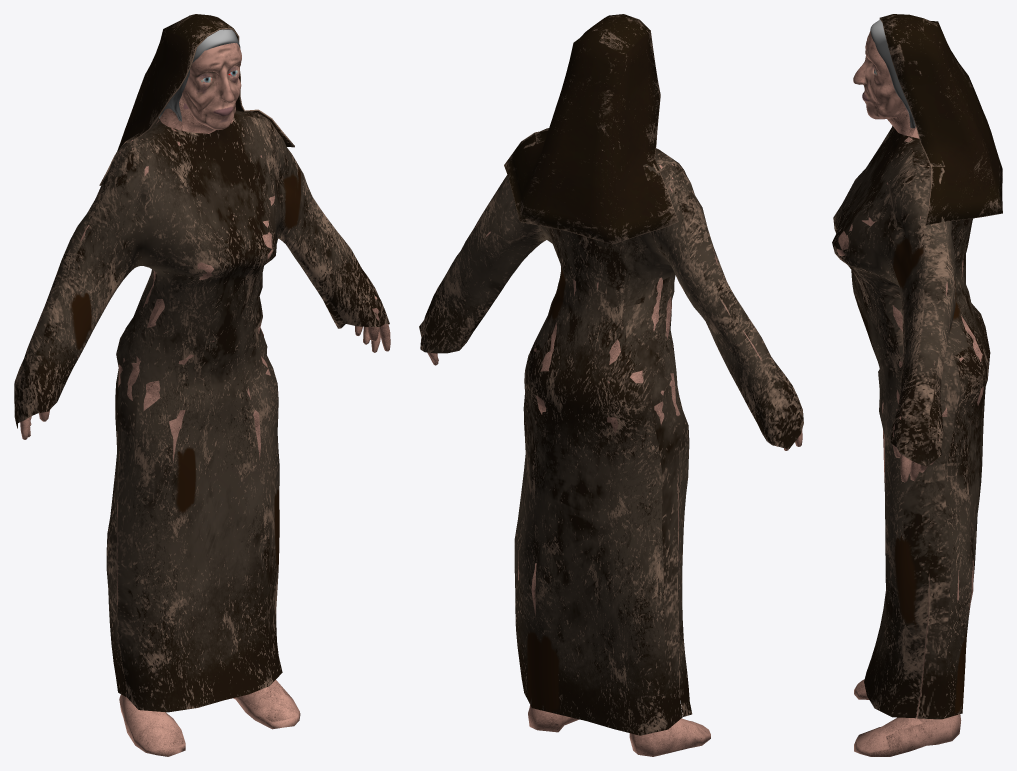
Rendered from femaleHolmes.fbx.
3 renders of one model, left to right at view 1: azimuth 30°, elevation 25°; view 2: azimuth 150°, elevation 25°; view 3: azimuth 270°, elevation 25°, orthographic.
Visible parts, largest first — view 1: apronLow, lowKafa, ortu; view 2: apronLow, ortu, lowKafa; view 3: apronLow, ortu, lowKafa.
Boxes of the visible parts, bbox=[...] form: apronLow: bbox=[14, 110, 389, 712]; lowKafa: bbox=[20, 29, 390, 756]; ortu: bbox=[99, 14, 294, 185]; apronLow: bbox=[419, 128, 803, 735]; ortu: bbox=[504, 14, 678, 244]; lowKafa: bbox=[423, 164, 802, 756]; apronLow: bbox=[832, 126, 990, 719]; ortu: bbox=[879, 14, 1002, 225]; lowKafa: bbox=[836, 20, 983, 756].
Bounding box in the file's own units: 91.42 × 36.64 × 167.
